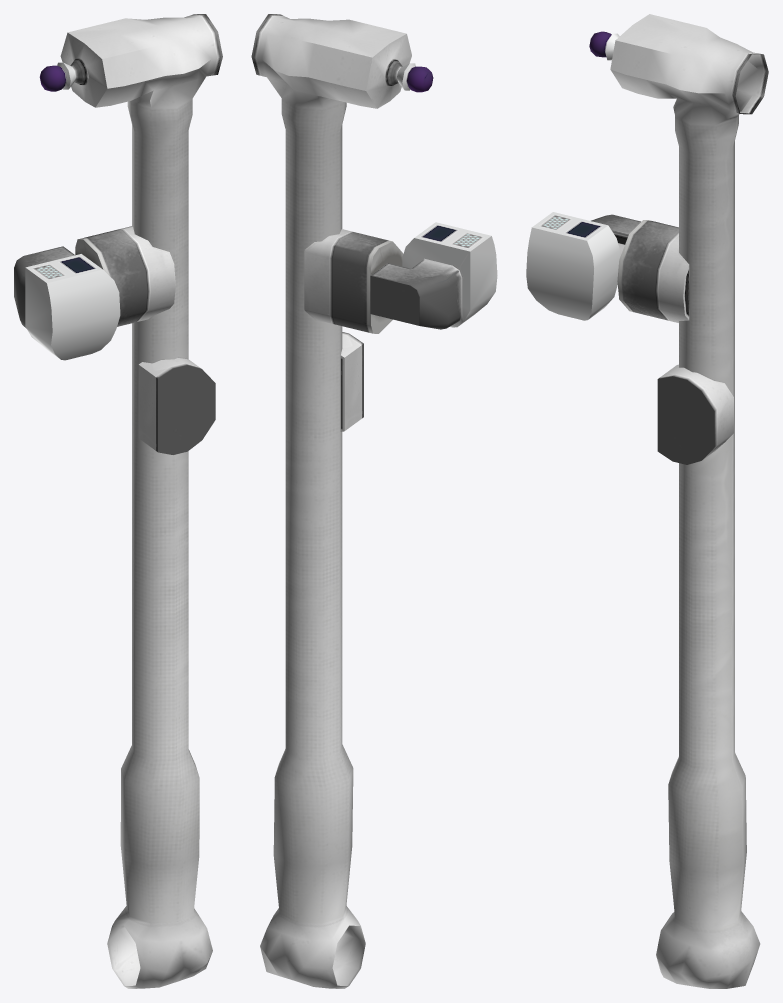
The model's file is big_arm_link_4.dae.
The picture shows the model from 3 angles, left to right: view 1: azimuth 30°, elevation 25°; view 2: azimuth 150°, elevation 25°; view 3: azimuth 330°, elevation 25°; orthographic projection.
Parts seen in each view (by area): view 1: Big Arm_4; view 2: Big Arm_4; view 3: Big Arm_4.
Boxes of the visible parts, <box> form: Big Arm_4: <box>14,14,222,988</box>; Big Arm_4: <box>251,14,497,988</box>; Big Arm_4: <box>526,14,768,988</box>.
Size of the model in its own units: 0.8216 by 0.4802 by 3.92.
1 material, 1 textured.
